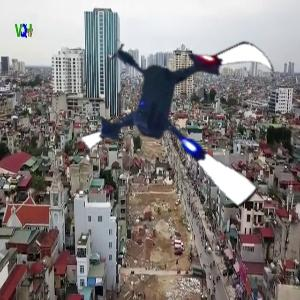drone: (82, 5, 296, 219)
